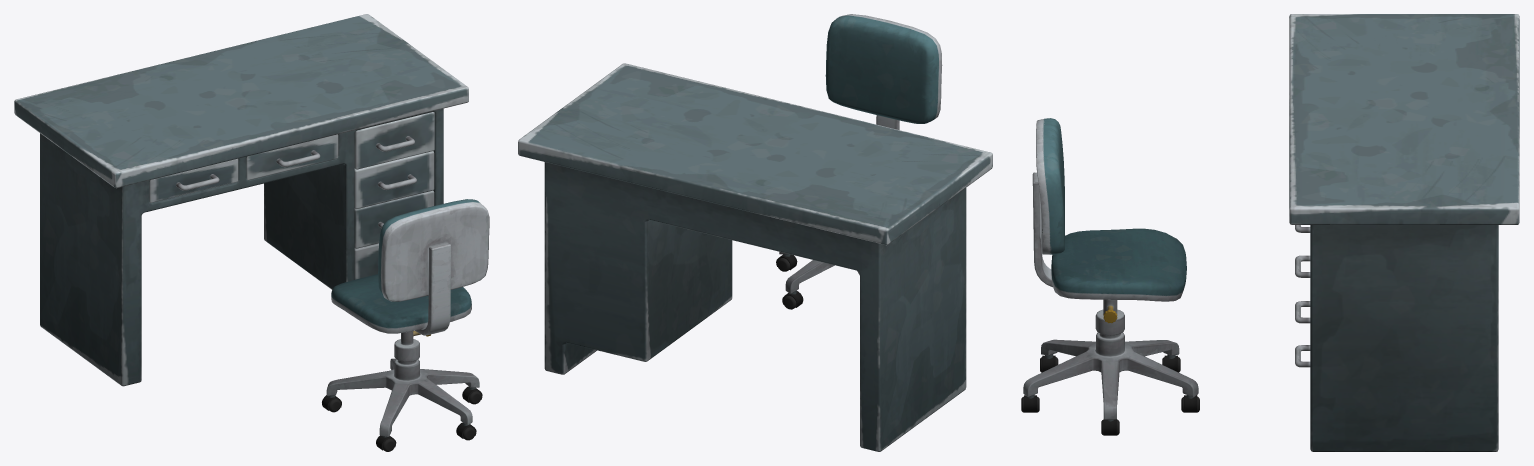
The model's file is OfficeDesk.fbx.
The picture shows the model from 3 angles, left to right: view 1: azimuth 30°, elevation 25°; view 2: azimuth 150°, elevation 25°; view 3: azimuth 270°, elevation 25°; orthographic projection. The views are drawn at different scales.
Parts seen in each view (by area): view 1: SM_Desk, SM_Chair, SM_DeskDrawer_03, SM_DeskDrawer_04, SM_DeskDrawer_05, SM_DeskDrawer_06, SM_DeskDrawer_02, SM_DeskDrawer_01; view 2: SM_Desk, SM_Chair; view 3: SM_Desk, SM_Chair.
Part boxes in pixels (x1,y1,x2,y2): SM_Desk: (14,14,468,386); SM_Chair: (322,199,489,451); SM_DeskDrawer_03: (354,151,434,208); SM_DeskDrawer_04: (354,112,434,169); SM_DeskDrawer_05: (246,134,338,180); SM_DeskDrawer_06: (149,158,238,202); SM_DeskDrawer_02: (354,190,434,248); SM_DeskDrawer_01: (354,243,378,279); SM_Desk: (518,63,992,451); SM_Chair: (776,14,942,309); SM_Desk: (1289,14,1519,451); SM_Chair: (1021,118,1199,435).
Size of the model in its own units: 105 by 67.2 by 113.
1 material, 1 textured.
